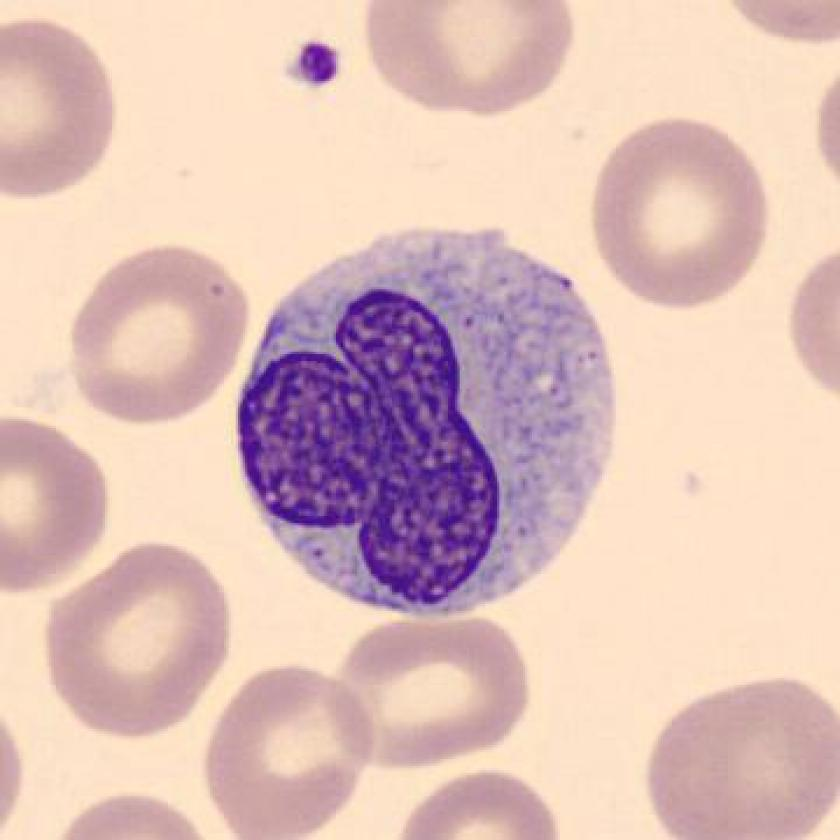monocyte: (216, 207, 640, 635)
